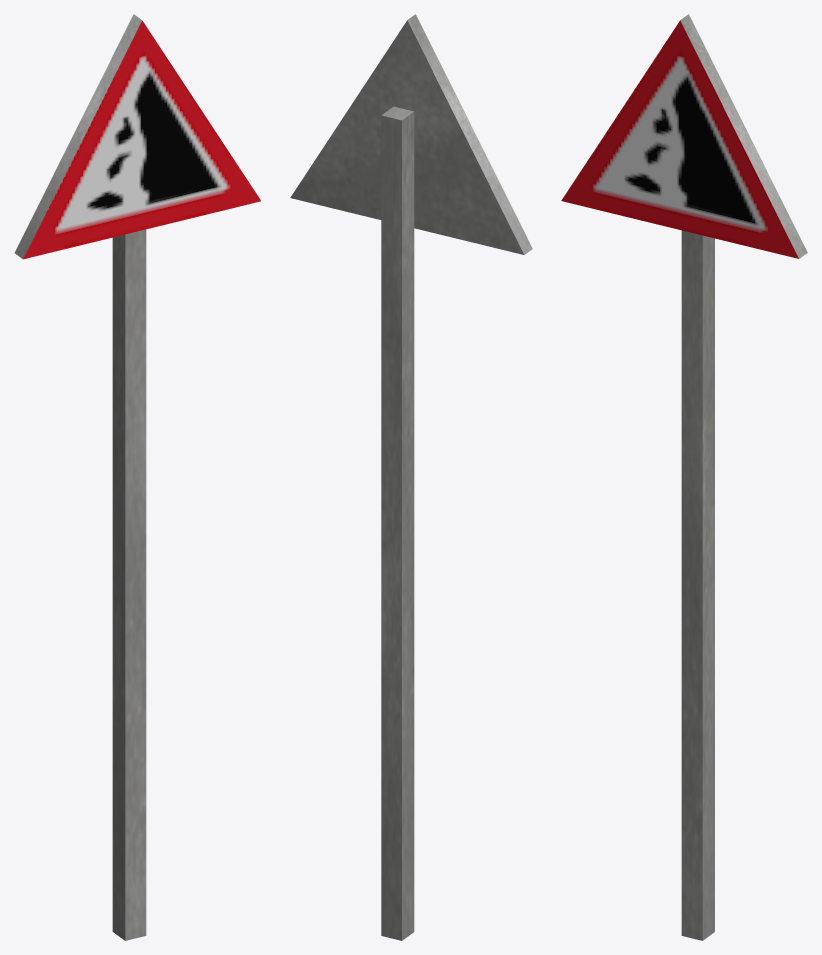
Rendered from co_StreetSign_RocksFalling.fbx.
The picture shows the model from 3 angles, left to right: view 1: azimuth 30°, elevation 25°; view 2: azimuth 150°, elevation 25°; view 3: azimuth 330°, elevation 25°; orthographic projection.
Visible parts, largest first — view 1: StreetSign_Rocks_Falling; view 2: StreetSign_Rocks_Falling; view 3: StreetSign_Rocks_Falling.
Boxes of the visible parts, left/top/right/bottom form: StreetSign_Rocks_Falling: left=14, top=14, right=260, bottom=940; StreetSign_Rocks_Falling: left=290, top=14, right=532, bottom=940; StreetSign_Rocks_Falling: left=561, top=14, right=807, bottom=940.
Size of the model in its own units: 188 by 699 by 29.77.
